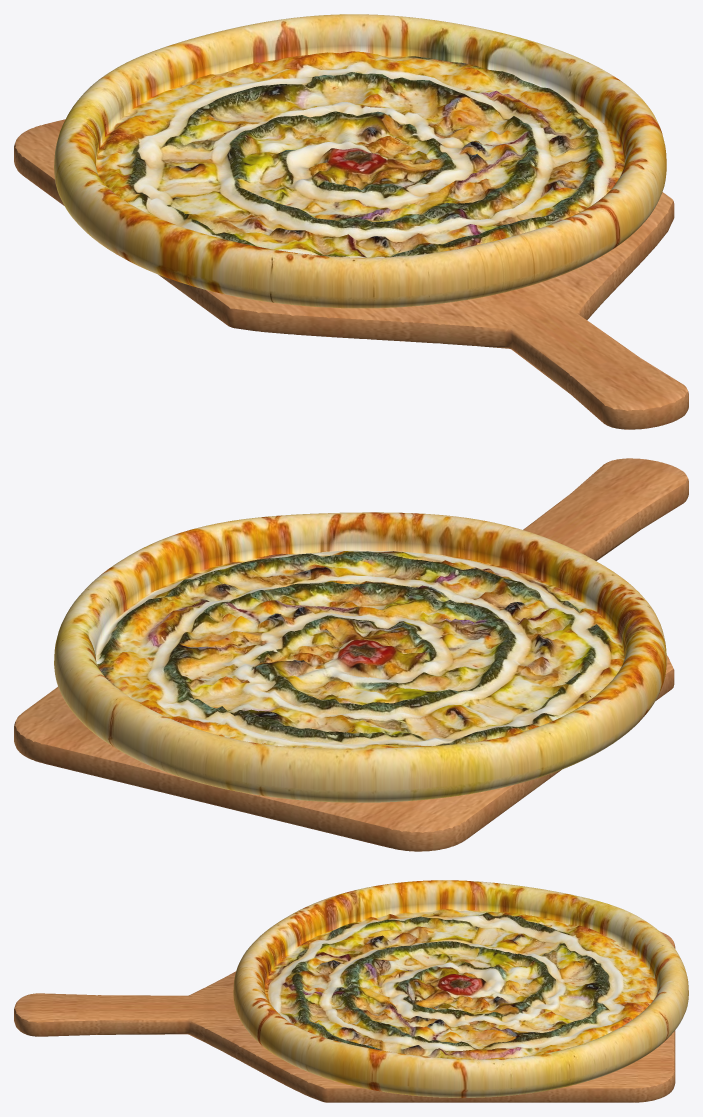
The model's file is pizza-ceaser.glb.
The picture shows the model from 3 angles, top to bottom: view 1: azimuth 30°, elevation 25°; view 2: azimuth 150°, elevation 25°; view 3: azimuth 270°, elevation 25°; orthographic projection. The views are drawn at different scales.
Parts seen in each view (by area): view 1: pizza-ceaser, peel.004; view 2: pizza-ceaser, peel.004; view 3: pizza-ceaser, peel.004.
Boxes of the visible parts, left/top/right/bottom form: pizza-ceaser: left=54, top=14, right=666, bottom=308; peel.004: left=14, top=119, right=688, bottom=429; pizza-ceaser: left=54, top=512, right=666, bottom=802; peel.004: left=14, top=458, right=688, bottom=851; pizza-ceaser: left=233, top=880, right=688, bottom=1097; peel.004: left=14, top=931, right=675, bottom=1102.
Size of the model in its own units: 0.3 by 0.0398 by 0.4444.
3 materials, 2 textured.
